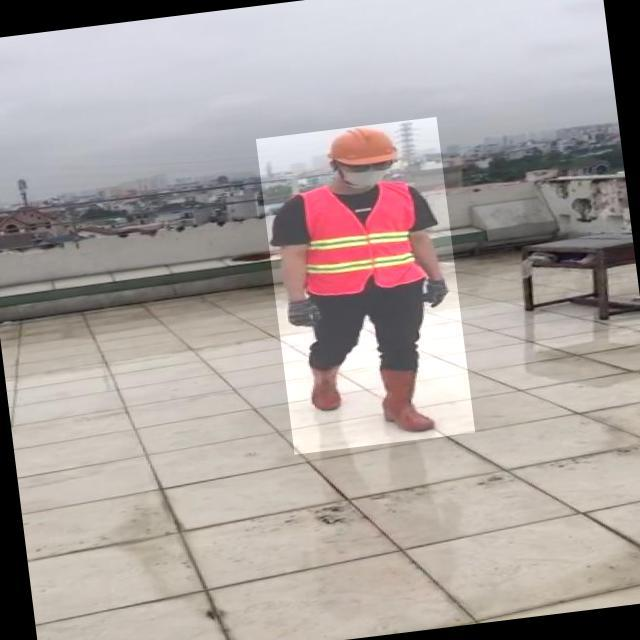Gloves: (419, 274, 452, 306), (286, 298, 321, 328)
Helmet: (319, 122, 400, 171)
Human: (256, 117, 475, 455)
Safety Boot: (378, 359, 439, 436), (304, 358, 346, 414)
Safety Vest: (297, 174, 428, 295)
